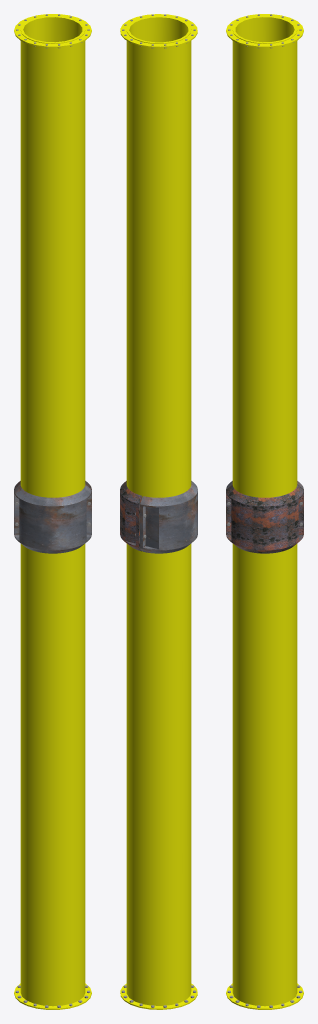
The model's file is protected.dae.
The picture shows the model from 3 angles, left to right: view 1: azimuth 90°, elevation 25°; view 2: azimuth 150°, elevation 25°; view 3: azimuth 270°, elevation 25°; orthographic projection.
Visible parts, largest first — view 1: protected; view 2: protected; view 3: protected.
Boxes of the visible parts, x1,y1,x2,y2 form: protected: [14, 14, 91, 1009]; protected: [120, 14, 197, 1009]; protected: [226, 14, 303, 1009].
Size of the model in its own units: 0.7315 by 0.7315 by 10.
4 materials, 3 textured.
